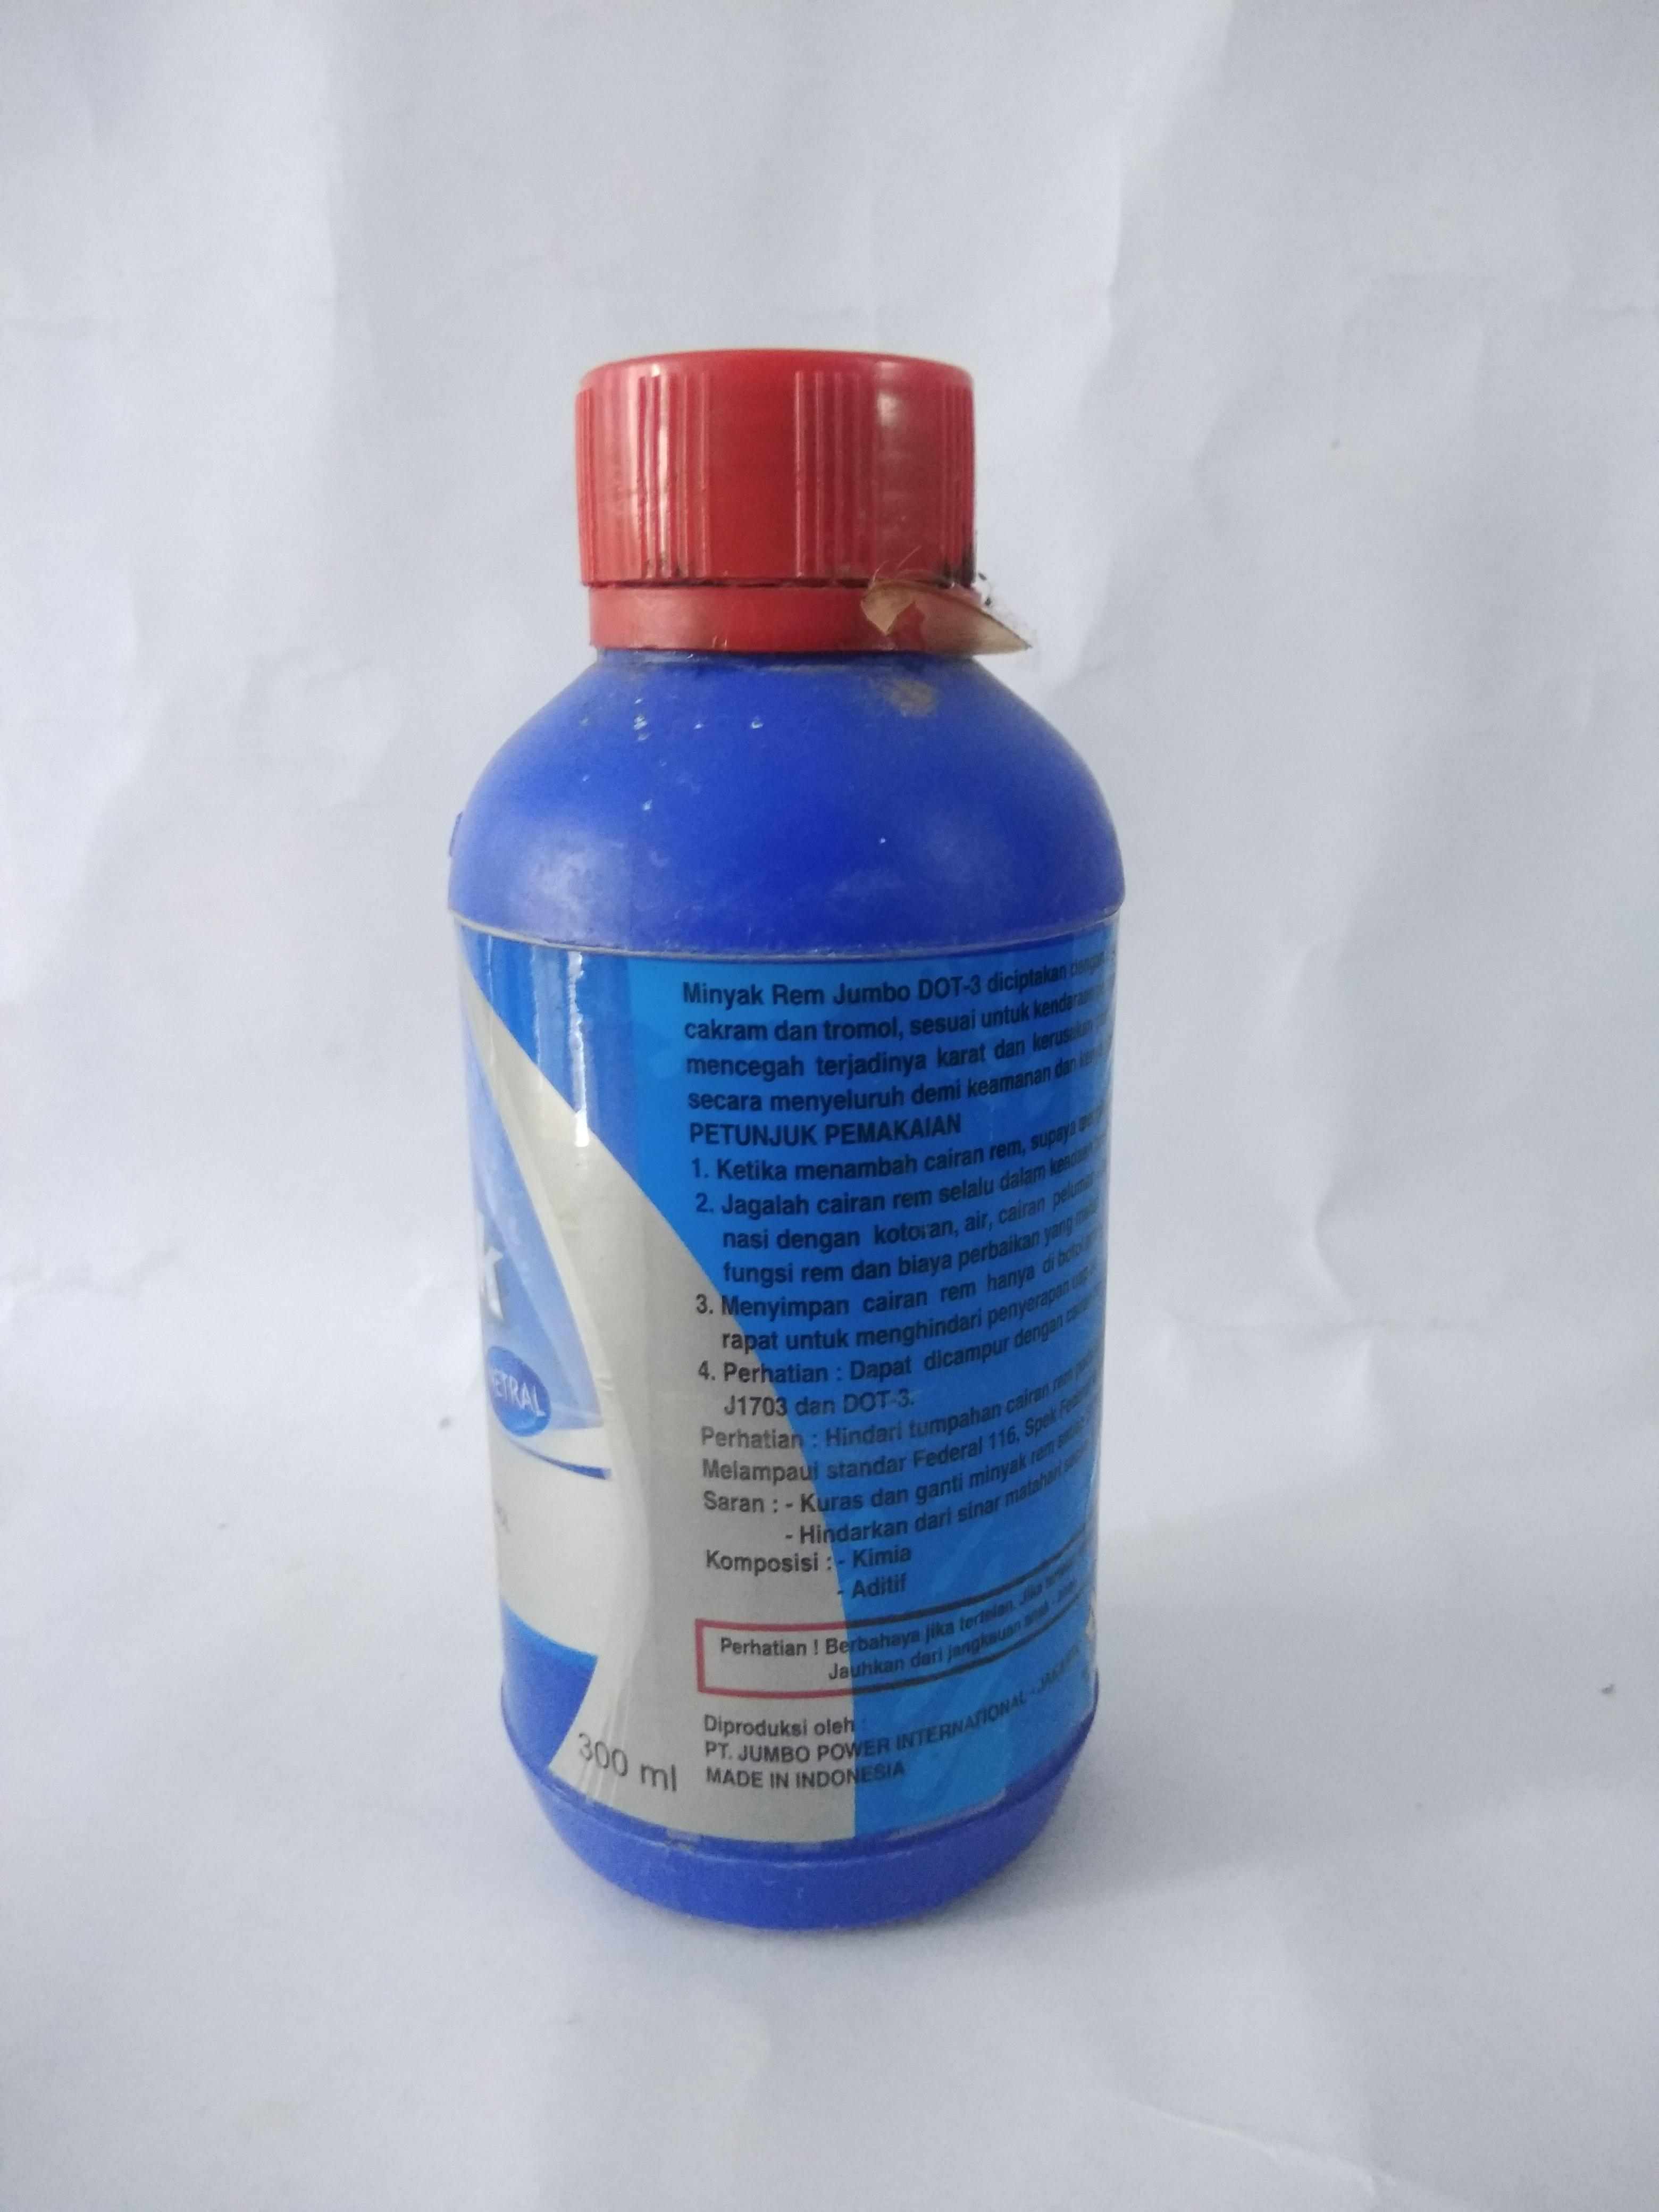HDPE: (446, 650, 1127, 1930), (572, 345, 983, 655)
